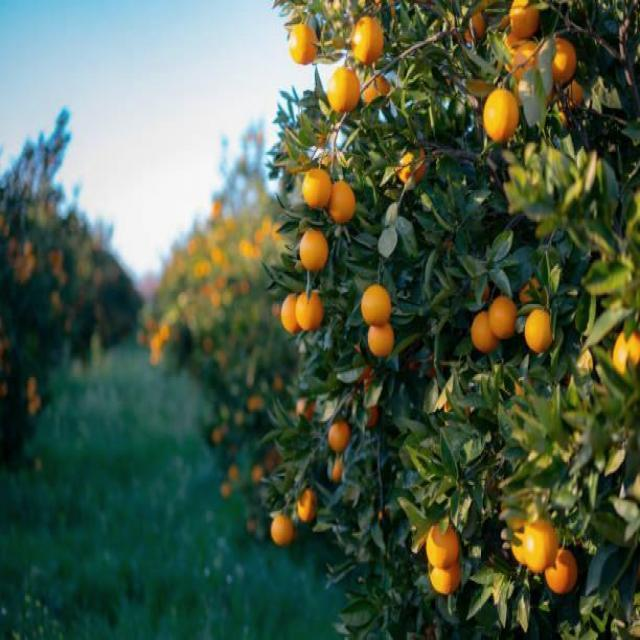Jeruk Sudah Matang: (520, 514, 560, 572), (512, 506, 548, 566), (540, 36, 578, 88), (513, 40, 549, 92), (427, 516, 460, 568), (429, 542, 462, 594), (486, 88, 518, 140), (544, 546, 578, 594), (328, 65, 360, 114), (351, 17, 384, 64), (524, 307, 556, 354), (614, 326, 640, 382), (396, 142, 429, 186), (302, 167, 333, 210), (362, 282, 392, 326), (298, 228, 328, 271), (490, 294, 518, 340), (296, 290, 326, 332), (288, 23, 316, 66), (328, 180, 356, 223), (472, 312, 502, 352), (512, 0, 540, 38), (367, 320, 394, 356), (362, 72, 392, 104), (282, 293, 306, 333), (558, 79, 584, 113), (464, 8, 486, 44), (328, 419, 352, 452), (297, 486, 319, 522), (271, 512, 294, 546), (329, 456, 346, 482)
